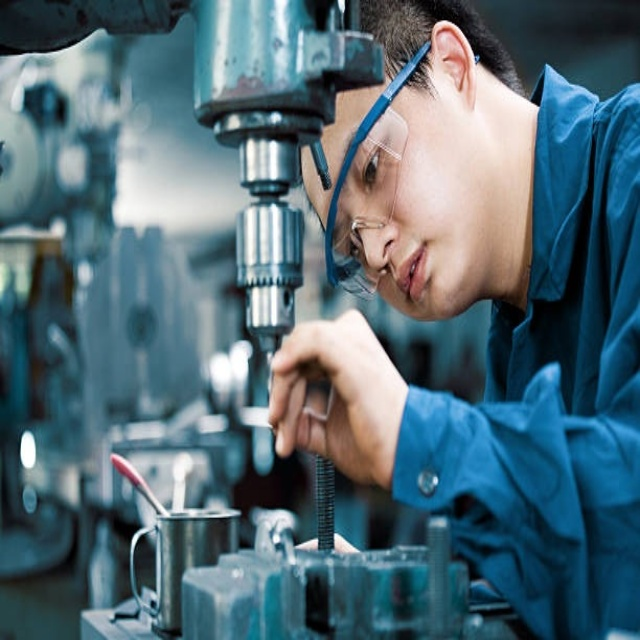Gafas: (321, 35, 473, 295)
Sin_guantes: (265, 306, 402, 488)
Sin_mascara: (394, 209, 457, 315)
